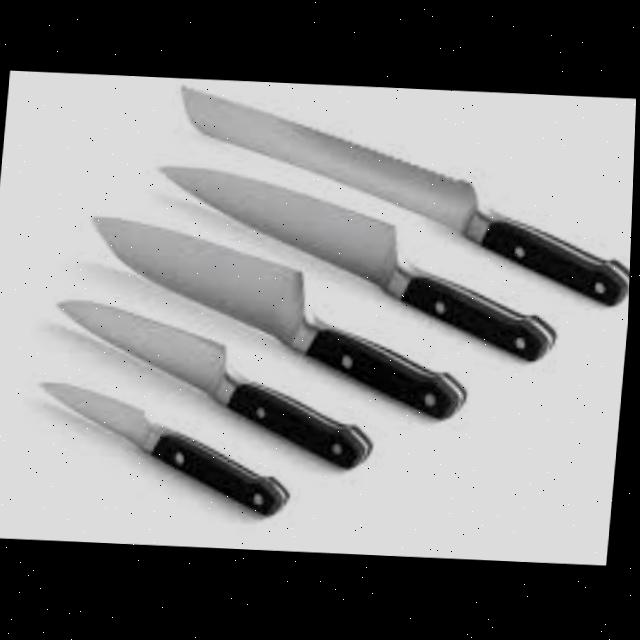knife: (165, 80, 638, 310), (145, 159, 573, 364), (80, 212, 486, 421), (48, 294, 391, 470), (33, 379, 304, 517)
